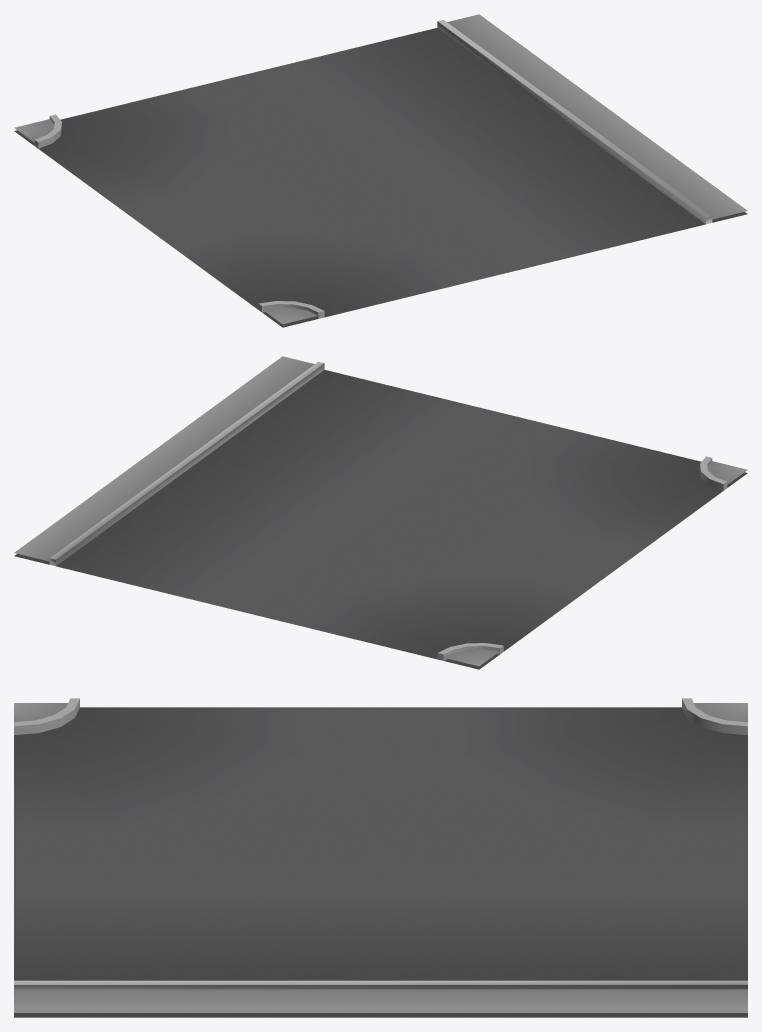
The model's file is road_003.glb.
3 renders of one model, top to bottom at view 1: azimuth 30°, elevation 25°; view 2: azimuth 150°, elevation 25°; view 3: azimuth 270°, elevation 25°, orthographic. The views are drawn at different scales.
Parts seen in each view (by area): view 1: road_003; view 2: road_003; view 3: road_003.
Part boxes in pixels (bbox=[...]): road_003: bbox=[14, 14, 747, 327]; road_003: bbox=[14, 356, 747, 669]; road_003: bbox=[14, 698, 747, 1017].
Bounding box in the file's own units: 15 × 0.2 × 15.
2 materials, 2 textured.
